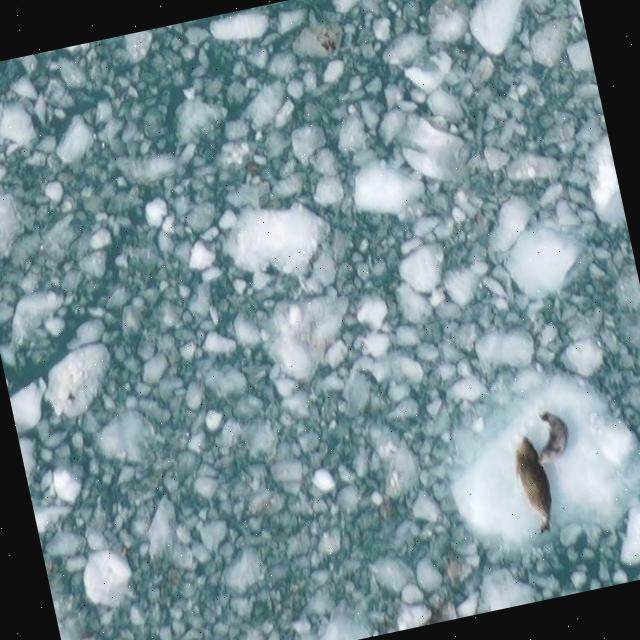seal: (508, 430, 561, 535), (532, 408, 572, 462)
